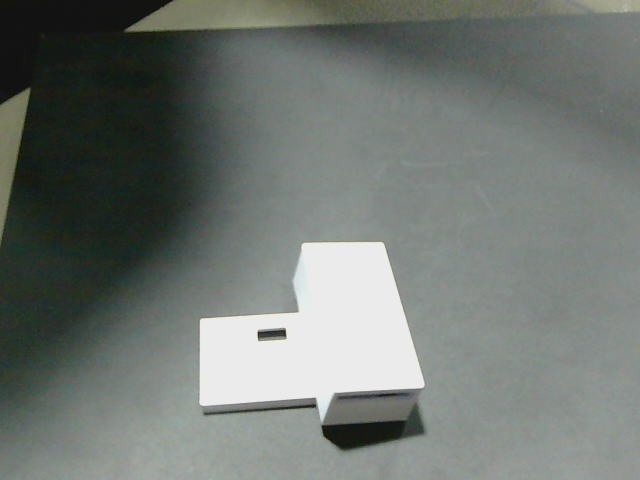enclosure_defective: (199, 242, 424, 416)
